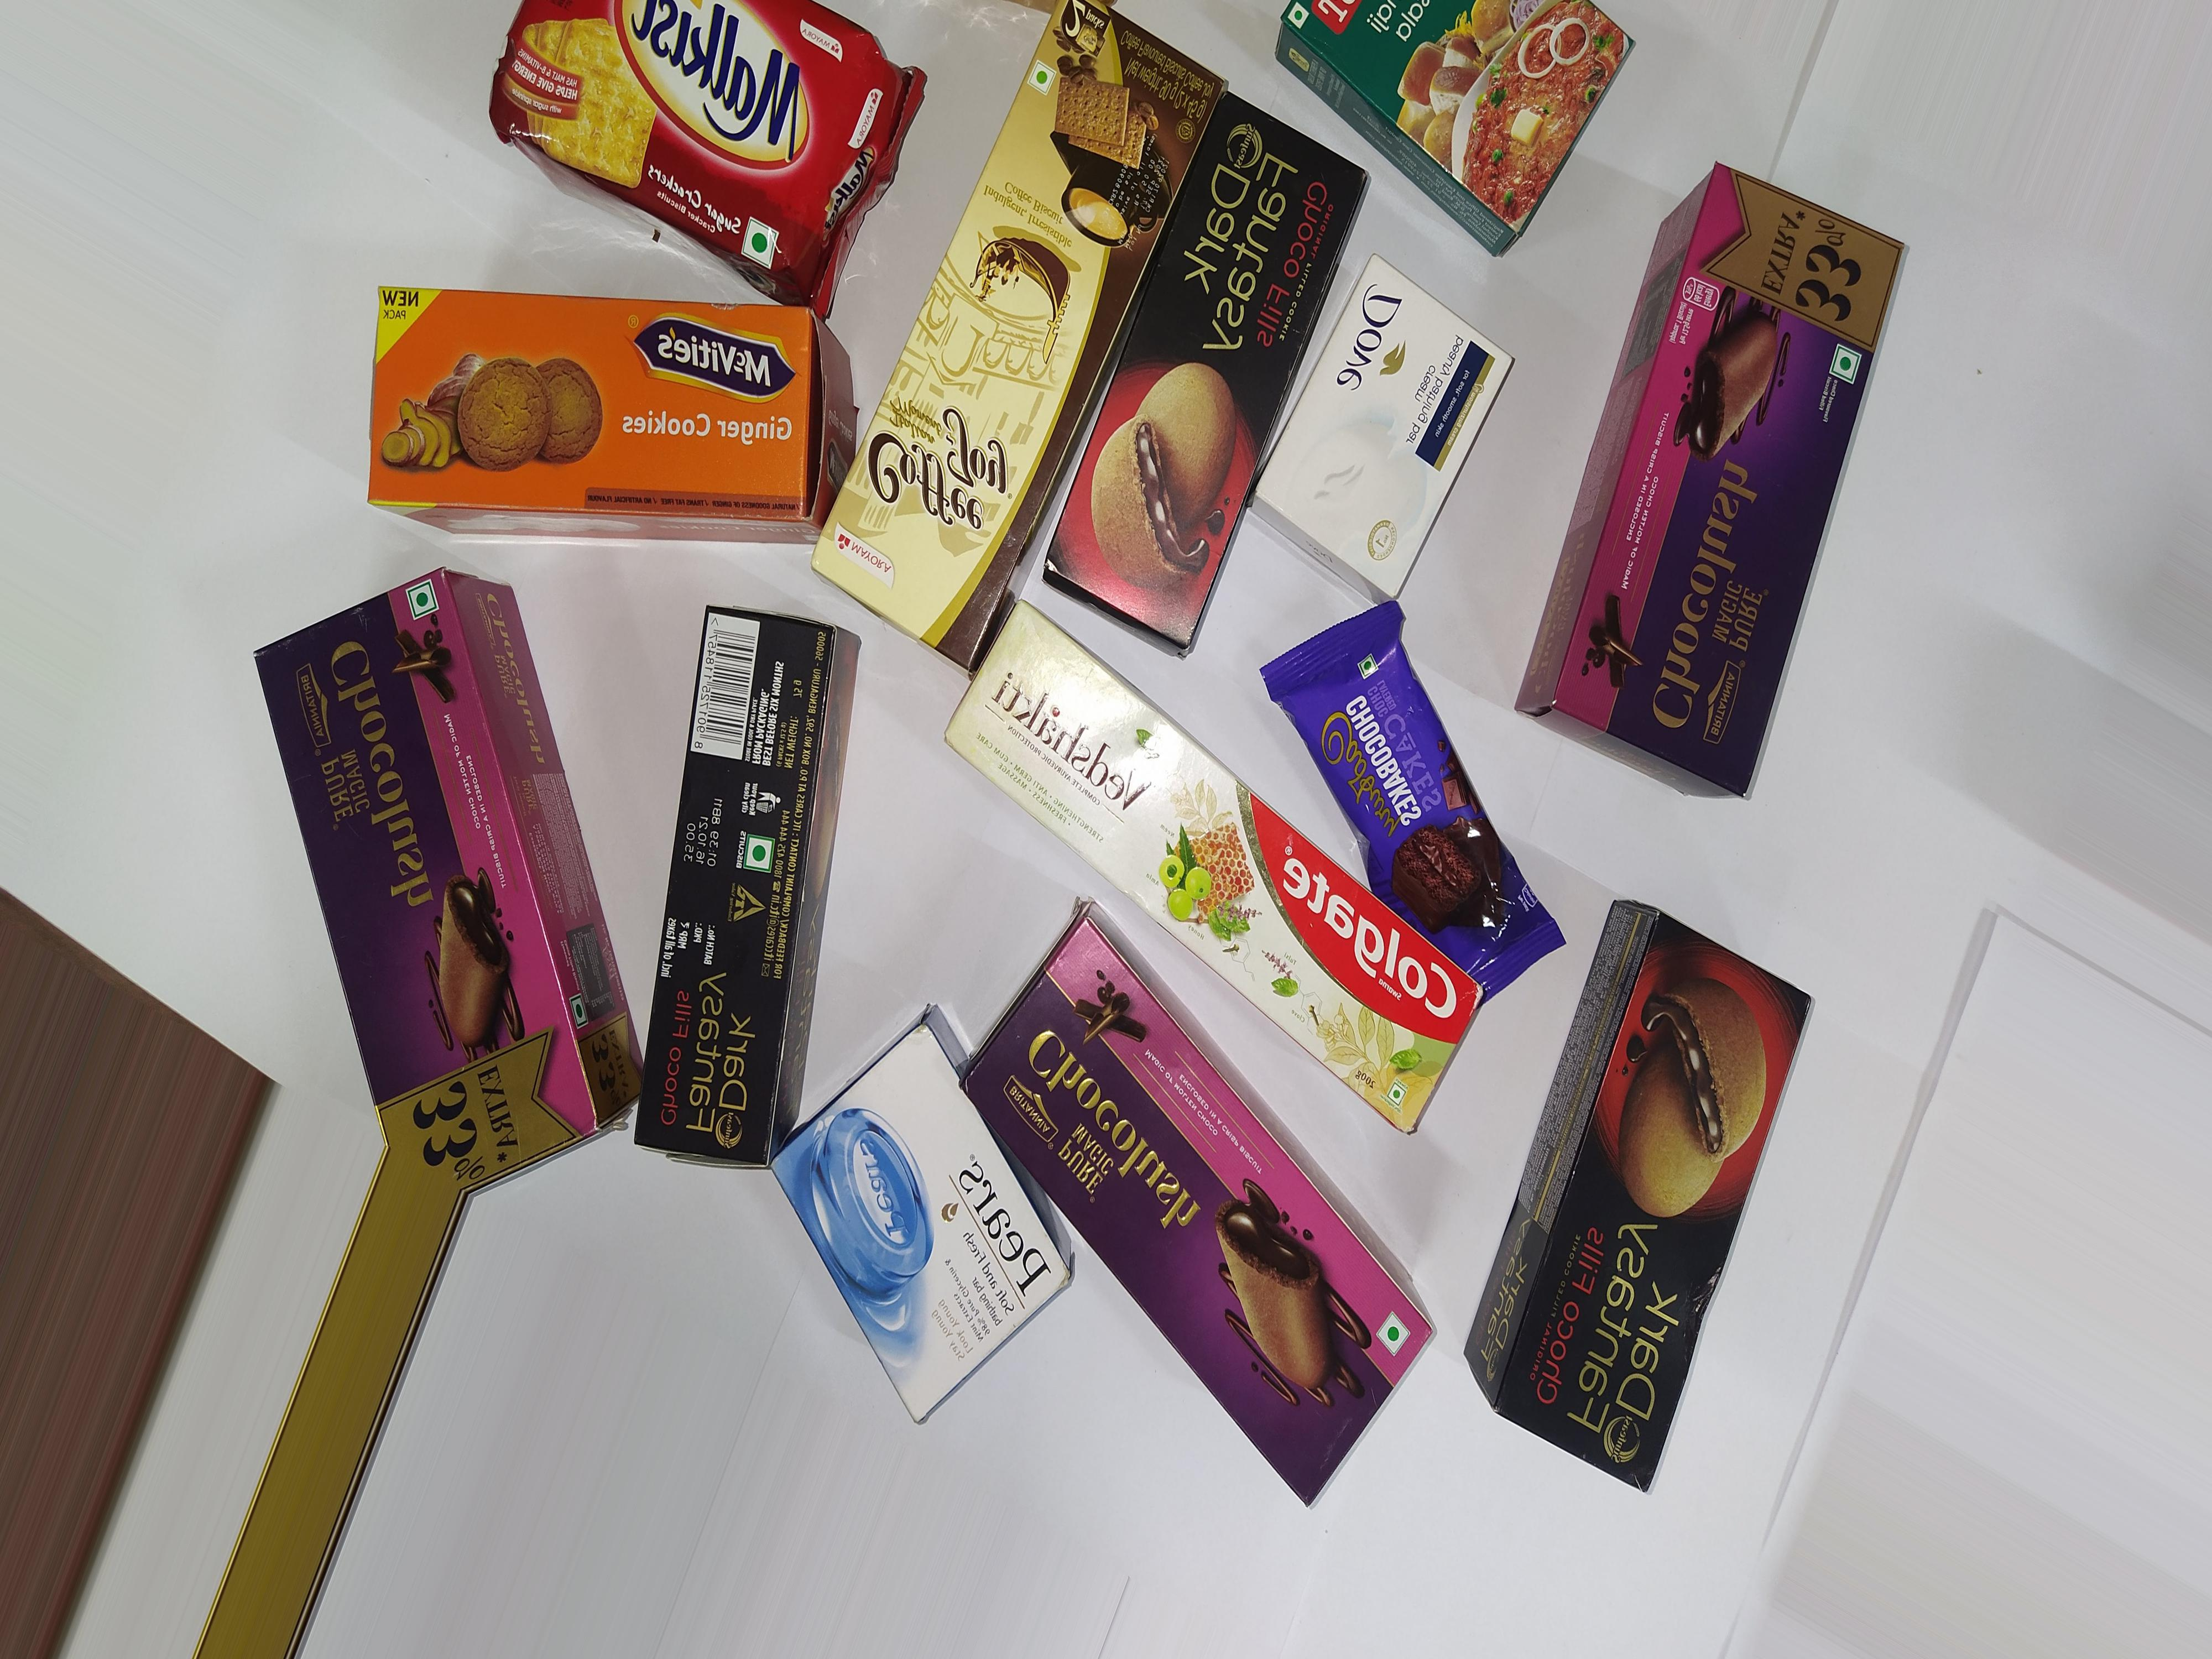Bar_code: (676, 587, 761, 779)
Item: (949, 899, 1515, 1558), (944, 633, 1496, 1134), (239, 563, 651, 1223), (1534, 162, 1919, 852), (1493, 892, 1817, 1541), (345, 261, 885, 568), (622, 570, 876, 1201), (456, 0, 925, 305), (756, 1002, 1104, 1392), (1054, 117, 1266, 683), (1289, 0, 1639, 305), (1275, 261, 1500, 596)
